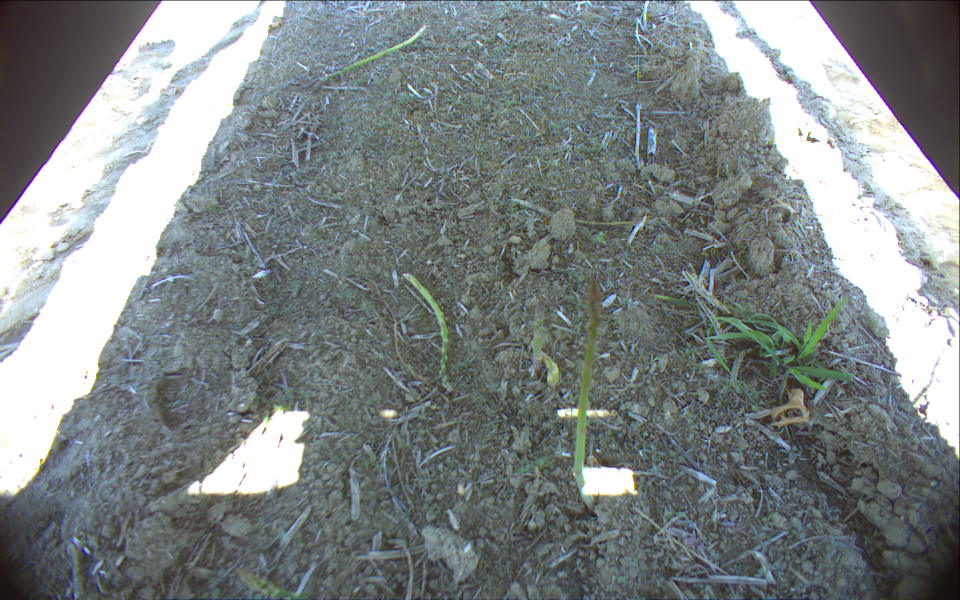aspa: (569, 269, 598, 492)
